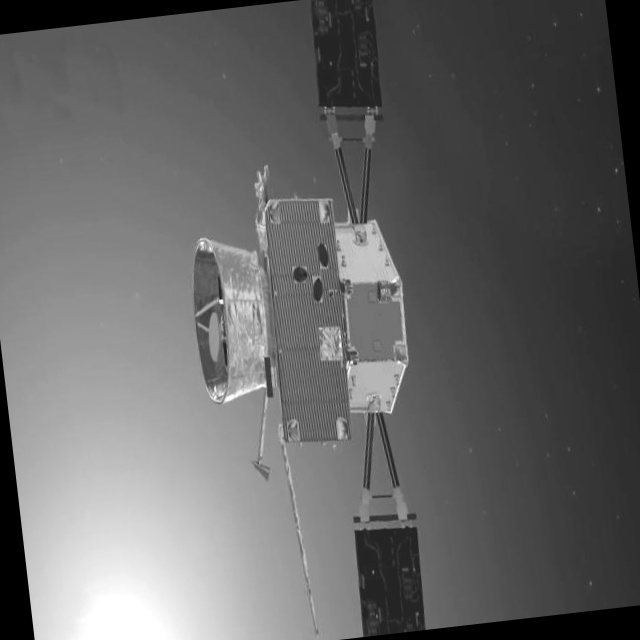satellite: (137, 0, 467, 640)
